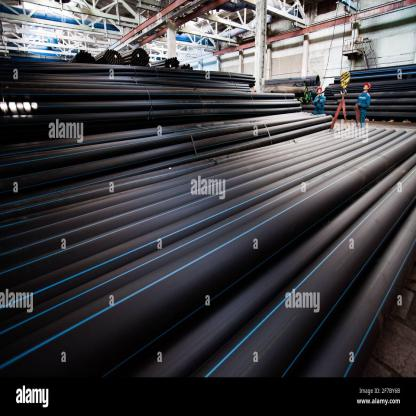PVC: (2, 47, 416, 382)
